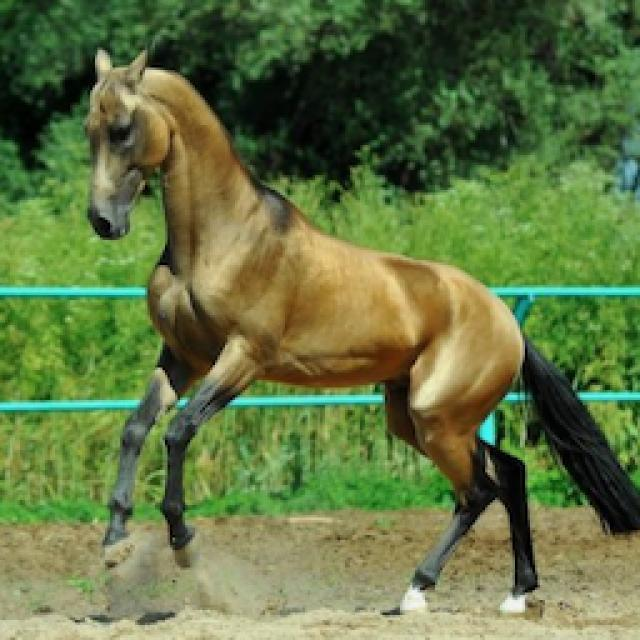Horse: (70, 40, 638, 620)
